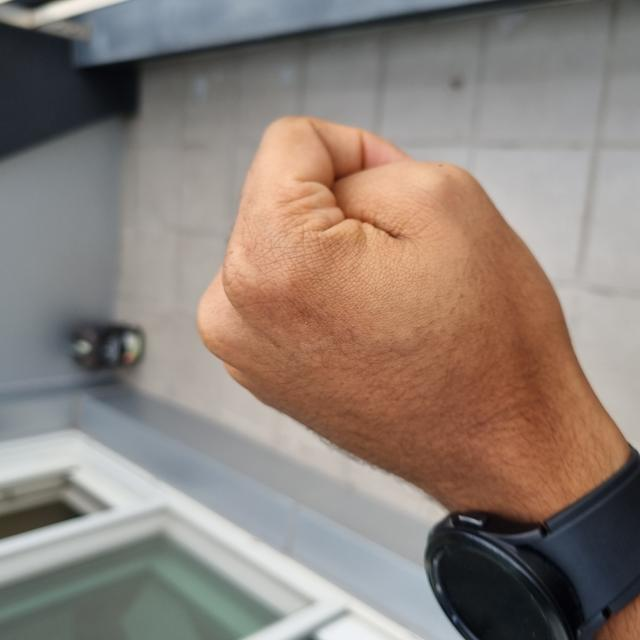Rock: (123, 198, 520, 609)
